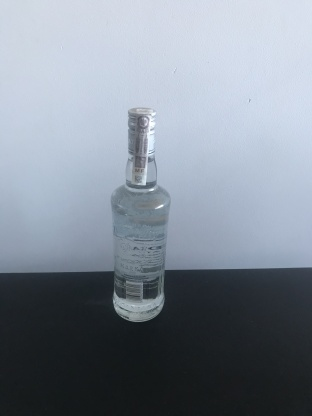nakretka: (124, 102, 159, 159)
